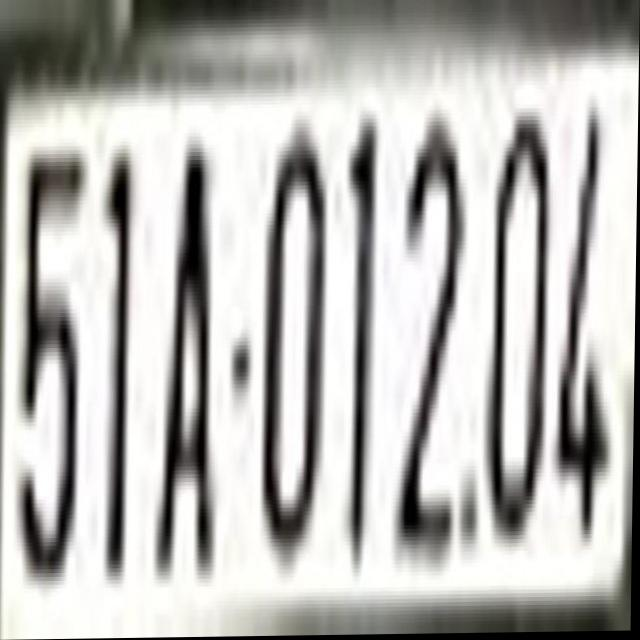0: (483, 102, 554, 561), (259, 120, 330, 571)
1: (335, 97, 384, 582), (100, 138, 137, 596)
2: (394, 111, 462, 577)
4: (553, 89, 621, 560)
5: (19, 126, 89, 597)
A: (156, 121, 225, 584)
